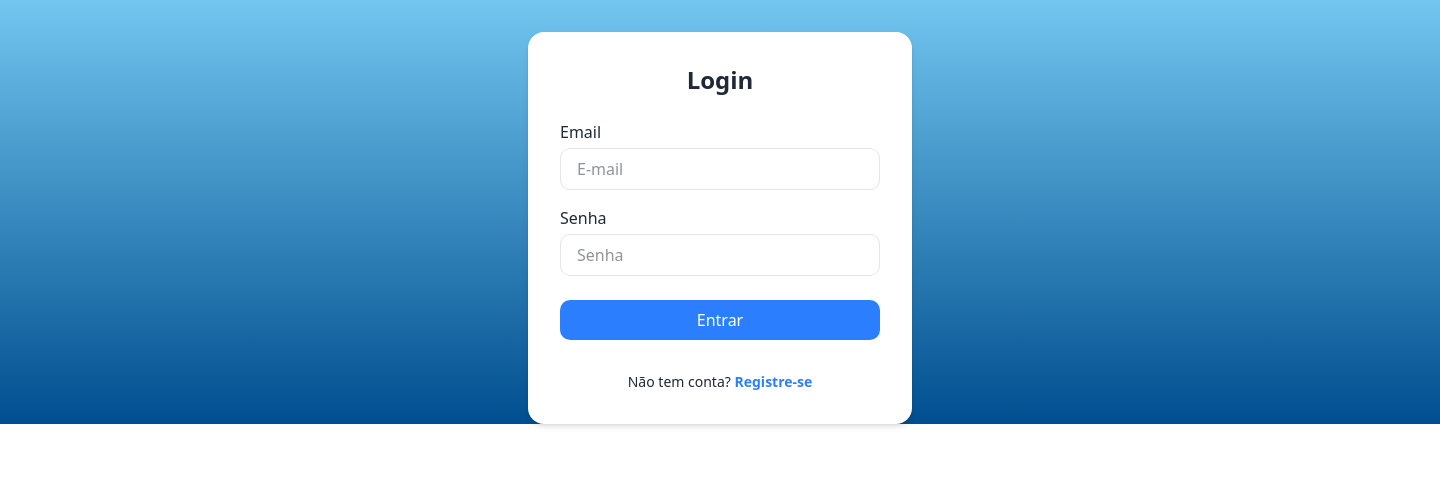
Test: Tela de Login › exibe erro ao tentar login com credenciais inválidas
The width and height of the screenshot is (1440, 481).
Type "teste3@gmail.com" into the field labelled "Email" at (720, 169), box [560,148,880,190]
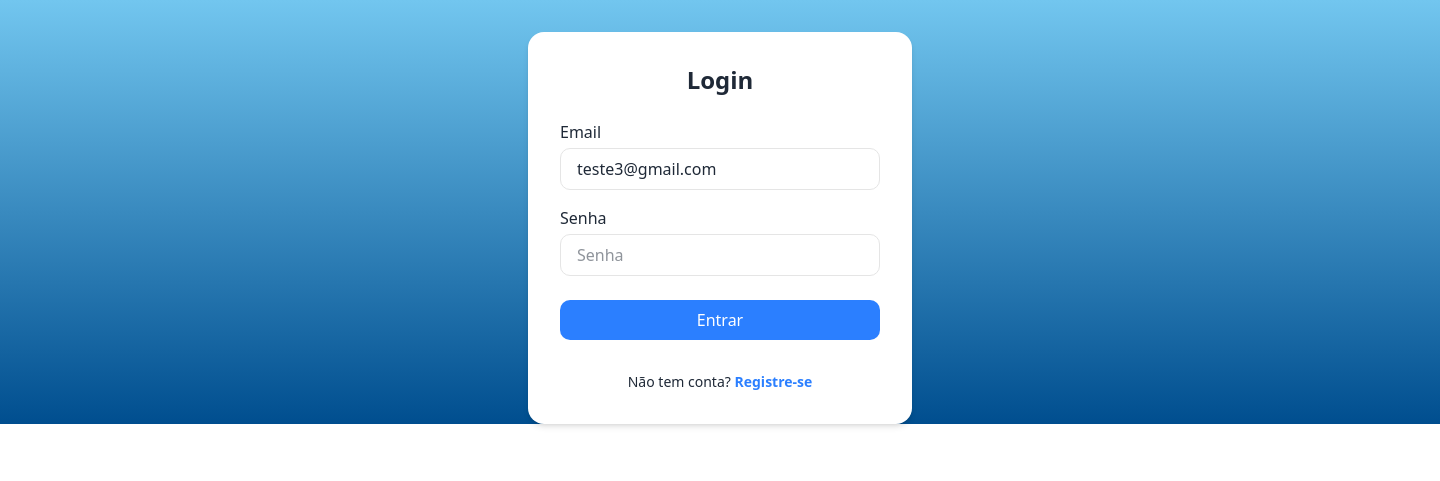
Type "senhaerrada" into the password field labelled "Senha" at (720, 255), box [560,234,880,276]
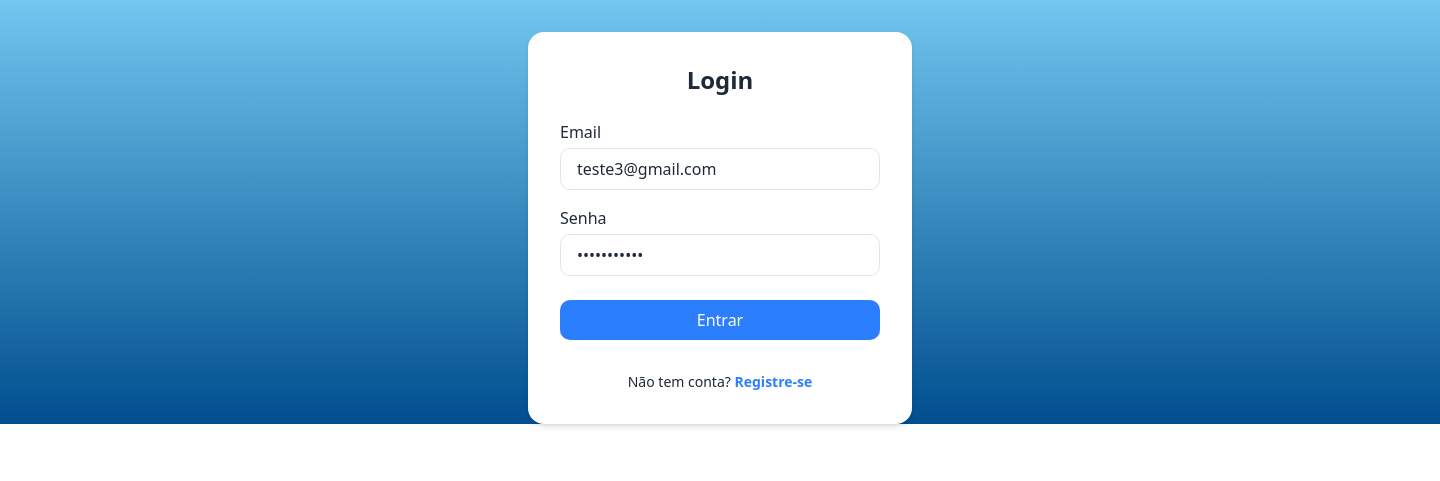
Click the button "Entrar" at (720, 320), box [560,300,880,340]
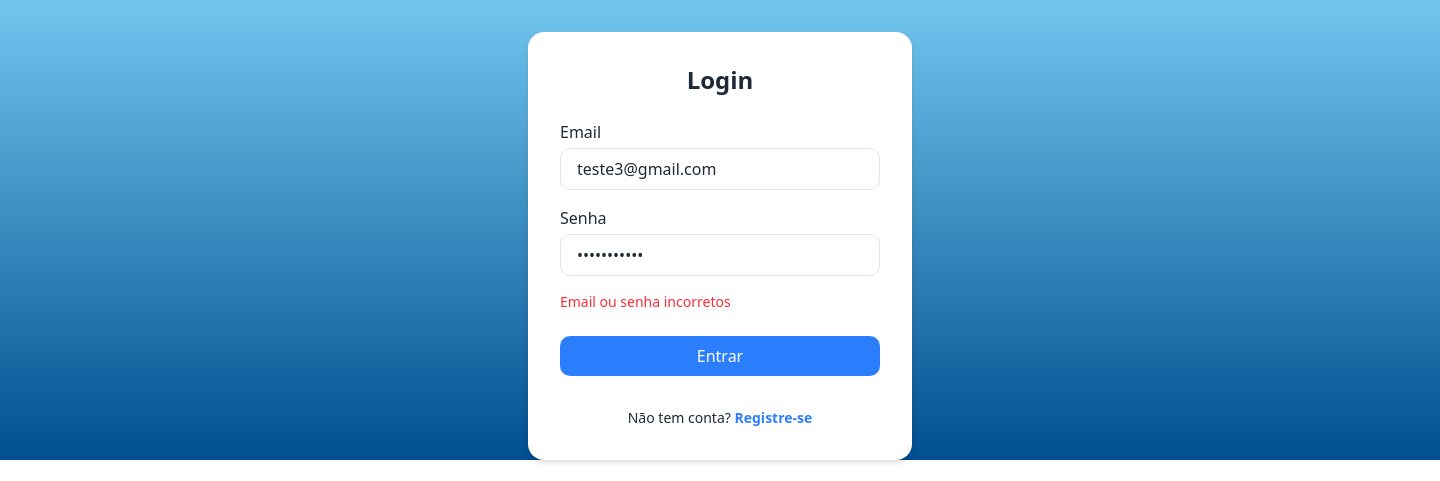
Expected: the text "Email ou senha incorretos" is shown, [560,292,731,311]
